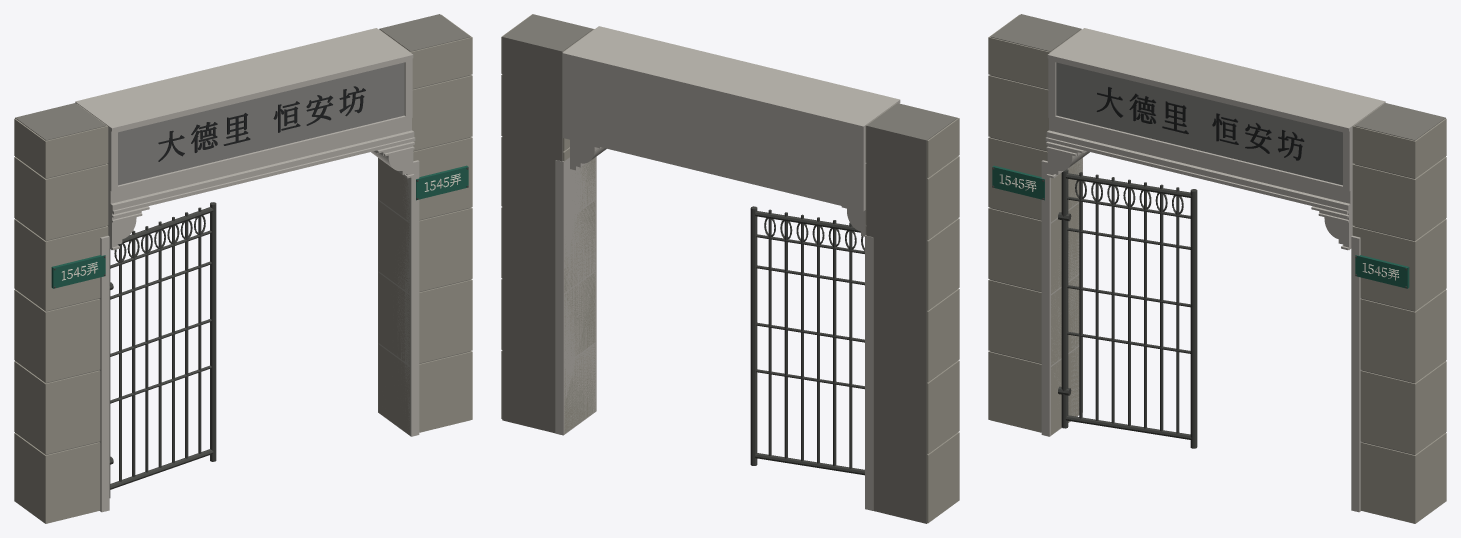
File: hongkou-dade-hengan-1545-shared-portal-web.glb
3 renders of one model, left to right at view 1: azimuth 30°, elevation 25°; view 2: azimuth 150°, elevation 25°; view 3: azimuth 330°, elevation 25°, orthographic.
Parts seen in each view (by area): view 1: 大德里与恒安坊四川北路1545弄题名过街门; view 2: 大德里与恒安坊四川北路1545弄题名过街门; view 3: 大德里与恒安坊四川北路1545弄题名过街门.
Part boxes in pixels (x1,y1,x2,y2): 大德里与恒安坊四川北路1545弄题名过街门: (14,14,472,523); 大德里与恒安坊四川北路1545弄题名过街门: (501,14,959,523); 大德里与恒安坊四川北路1545弄题名过街门: (988,14,1446,523).
Size of the model in its own units: 3.74 by 3.21 by 0.587.
